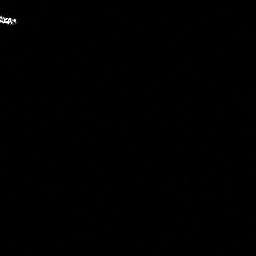ship: (1, 12, 18, 28)
